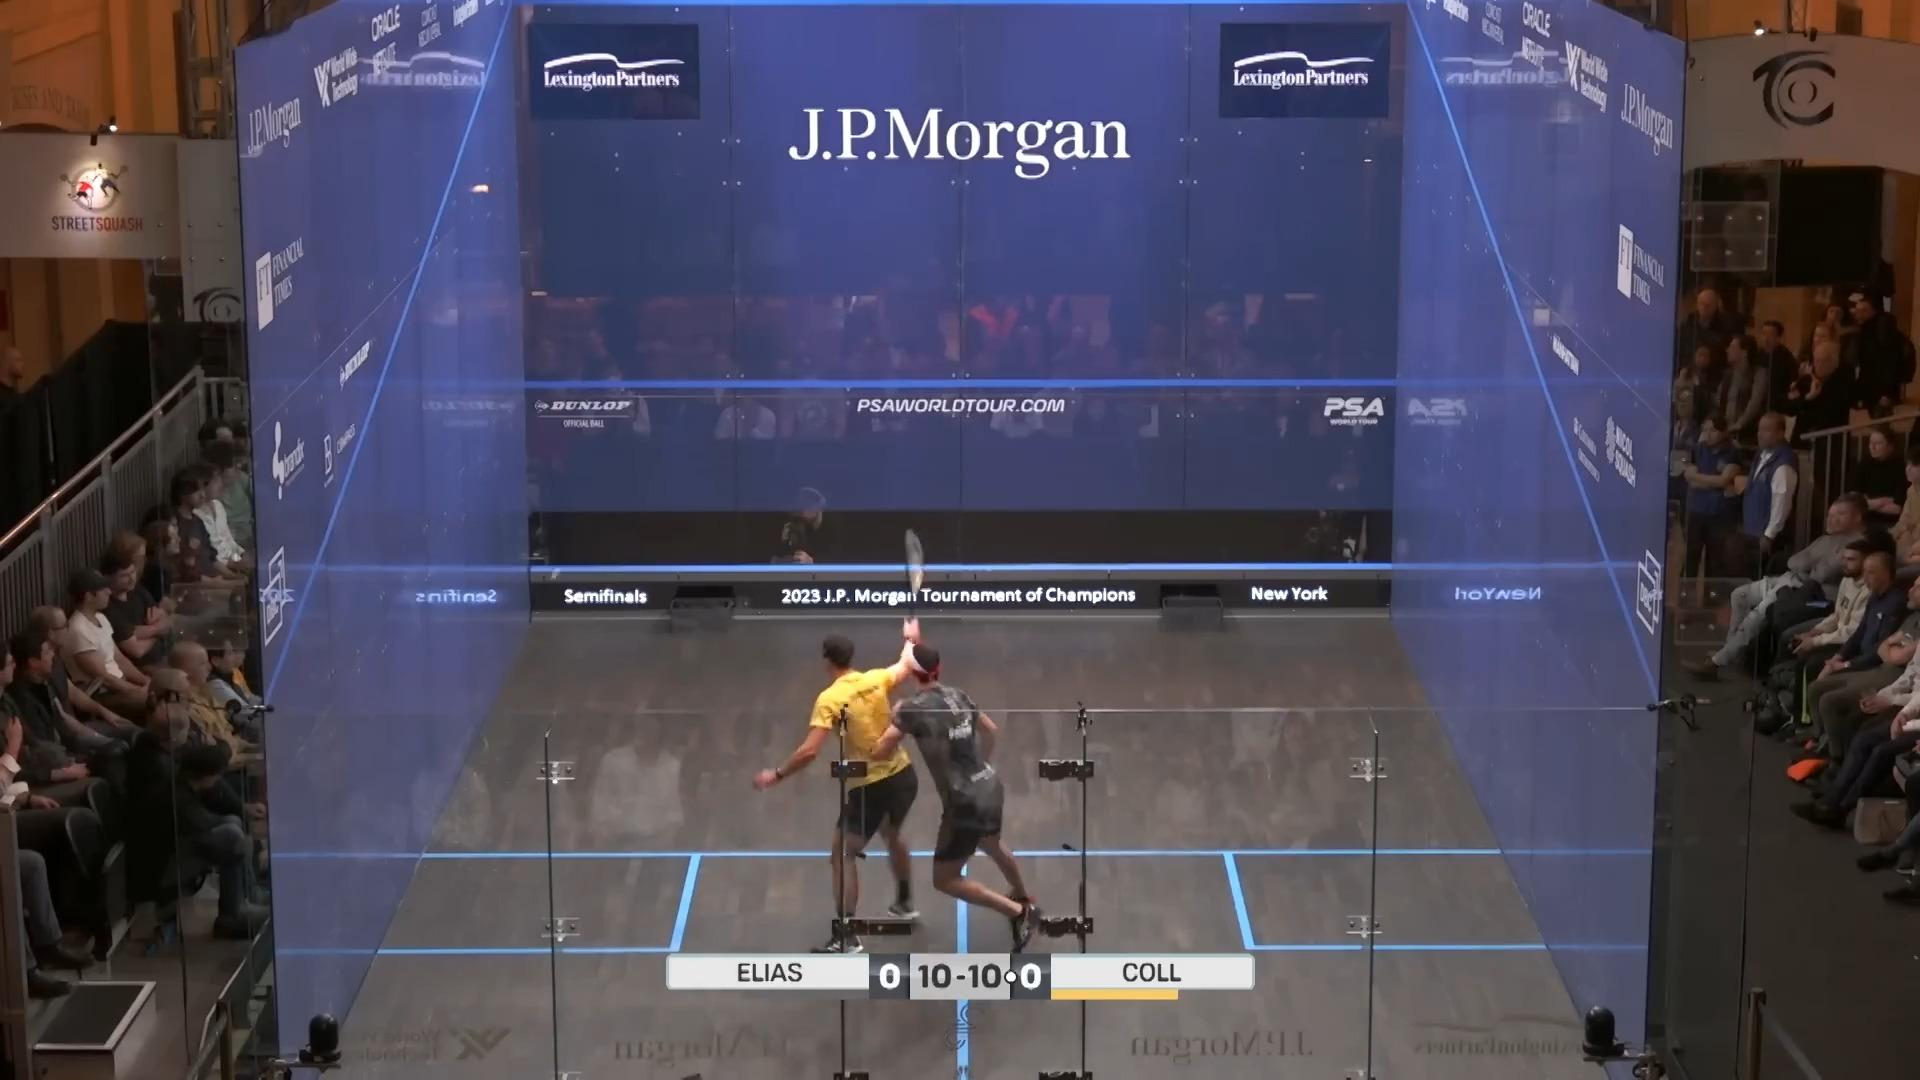Racket: (893, 512, 939, 632)
